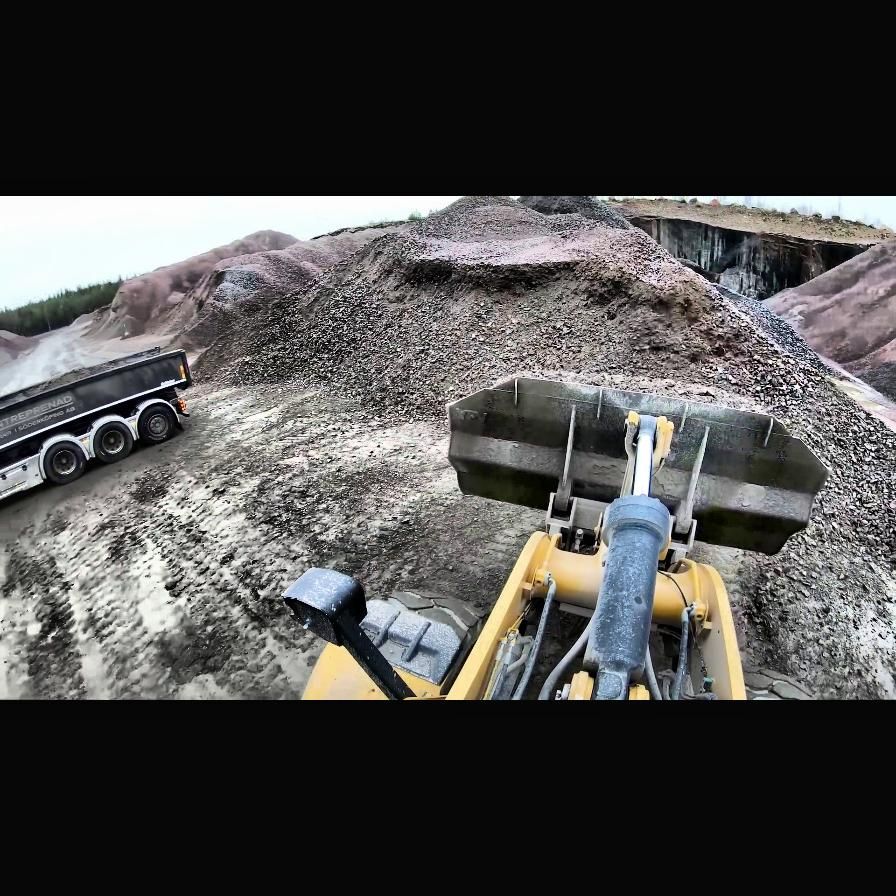anchor: (620, 410, 676, 500)
pile of gravel: (223, 199, 798, 425), (79, 229, 297, 353), (758, 233, 896, 404)
